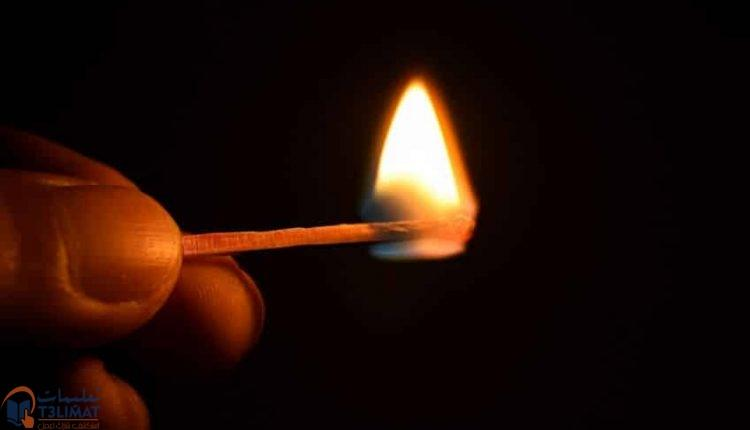Fire: (353, 69, 481, 269)
